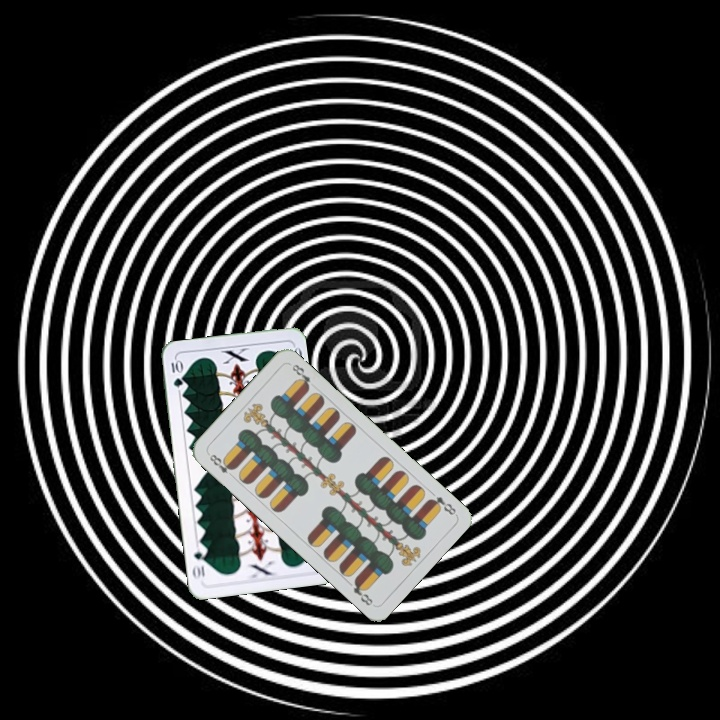E8: (424, 492, 459, 518), (204, 449, 237, 476)
G10: (167, 356, 185, 390)
